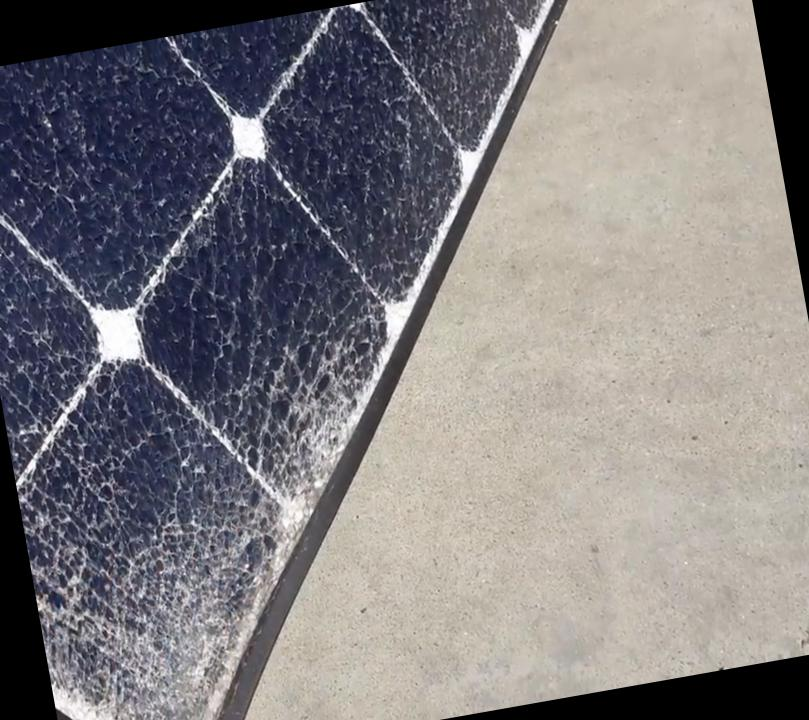Crack: (30, 459, 277, 719)
